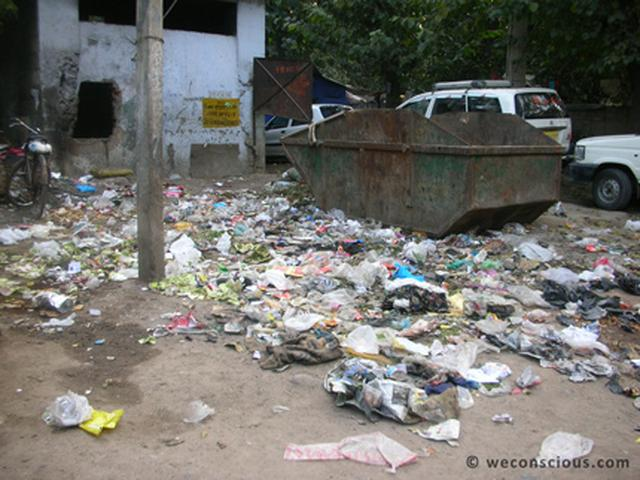garbage: (384, 248, 613, 349), (202, 227, 369, 347)
